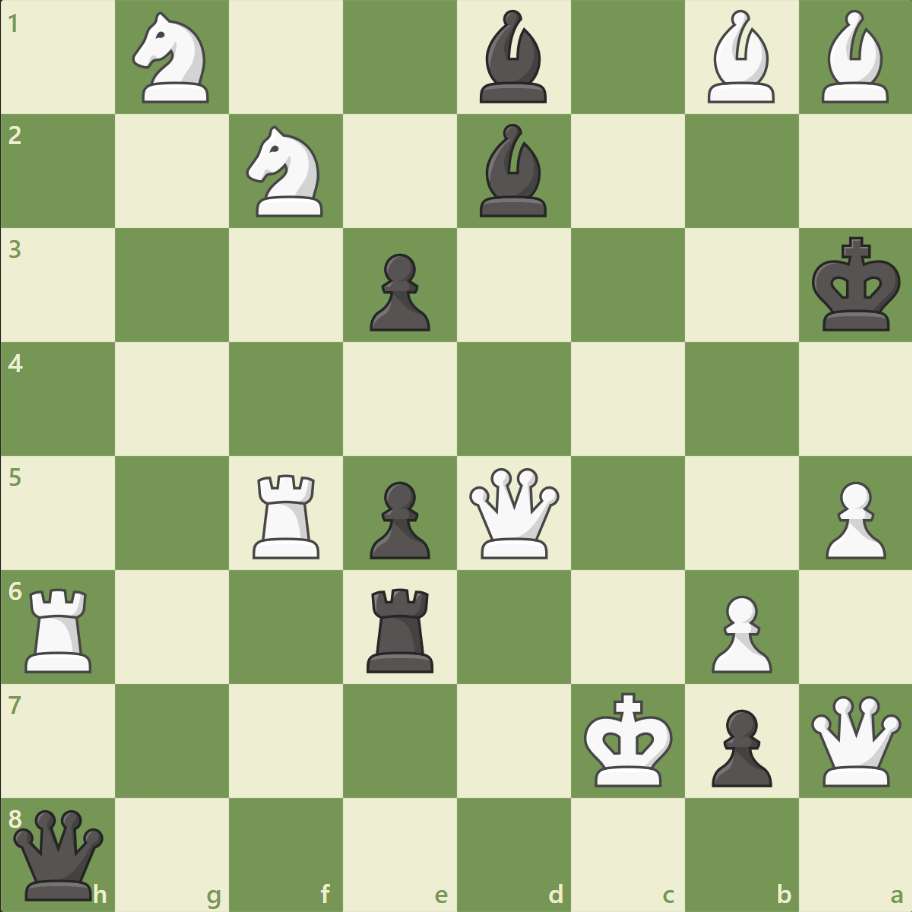B: (812, 6, 896, 109), (698, 6, 782, 109)
K: (579, 685, 679, 793)
N: (124, 7, 222, 110), (238, 121, 335, 223)
P: (701, 586, 776, 677), (815, 473, 889, 564)
Q: (805, 690, 904, 789), (464, 463, 563, 562)
R: (19, 579, 102, 676), (246, 466, 329, 563)
b: (471, 6, 555, 109), (471, 120, 555, 222)
k: (806, 231, 906, 339)
p: (701, 700, 776, 791), (361, 473, 435, 564), (361, 246, 435, 337)
q: (10, 804, 109, 903)
r: (360, 579, 442, 676)
